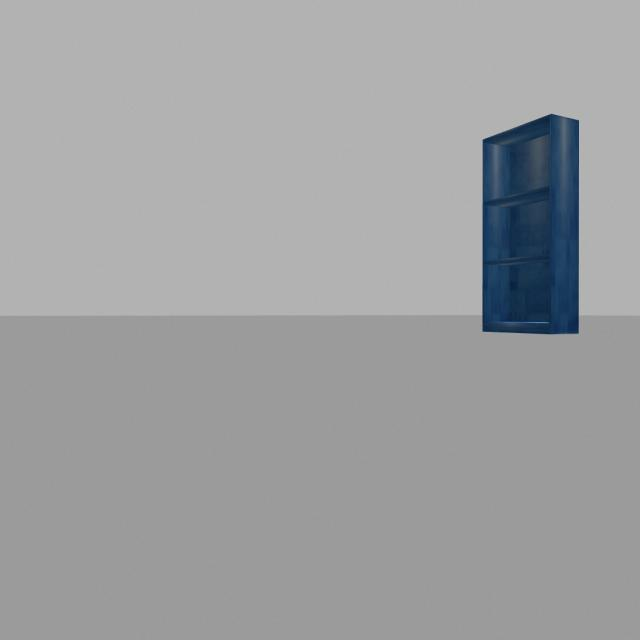shelf: (471, 96, 596, 352)
